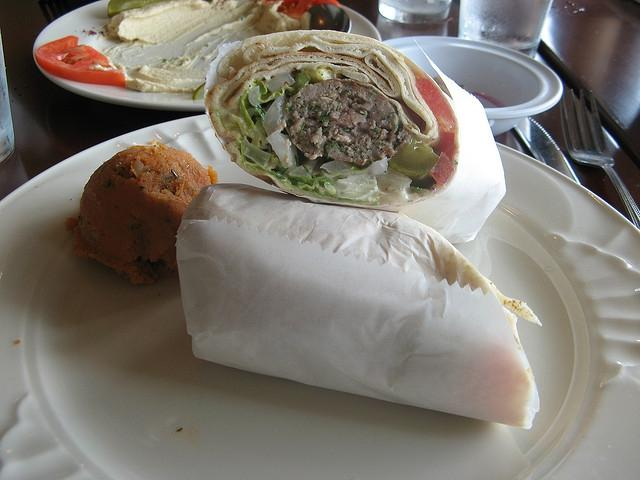tomato: (34, 34, 126, 88), (415, 77, 455, 186), (278, 0, 342, 20)
